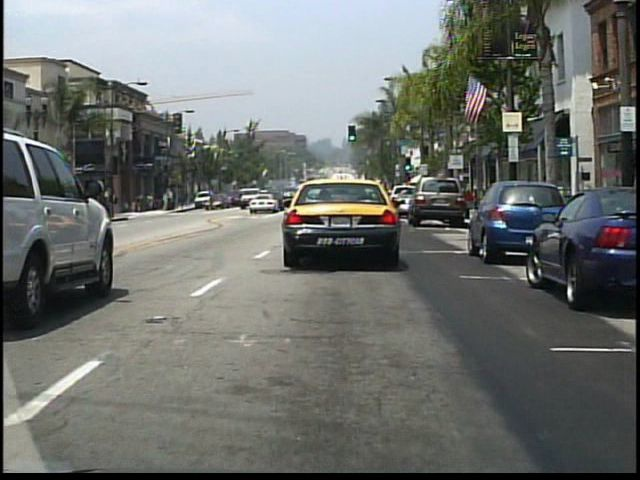person: (208, 187, 218, 213)
